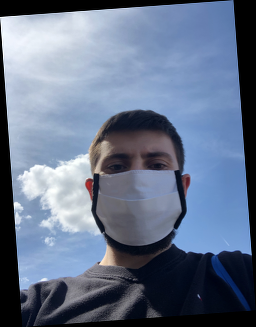with_mask: (91, 146, 186, 255)
